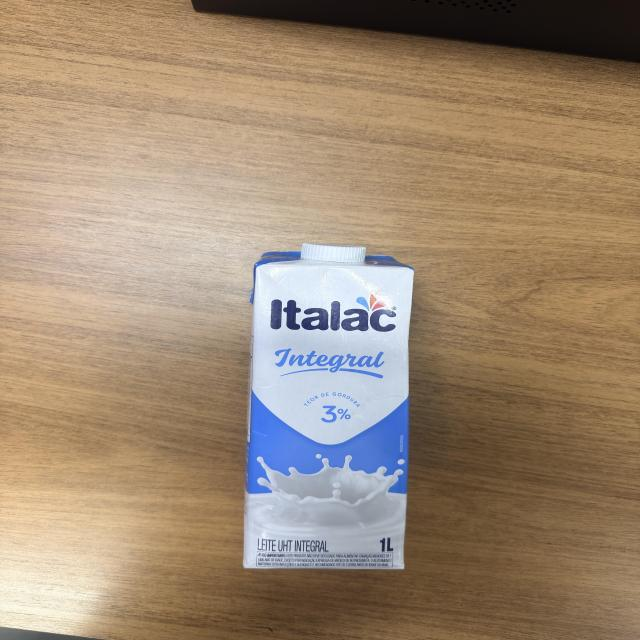Caixa de Leite: (245, 244, 420, 569)
